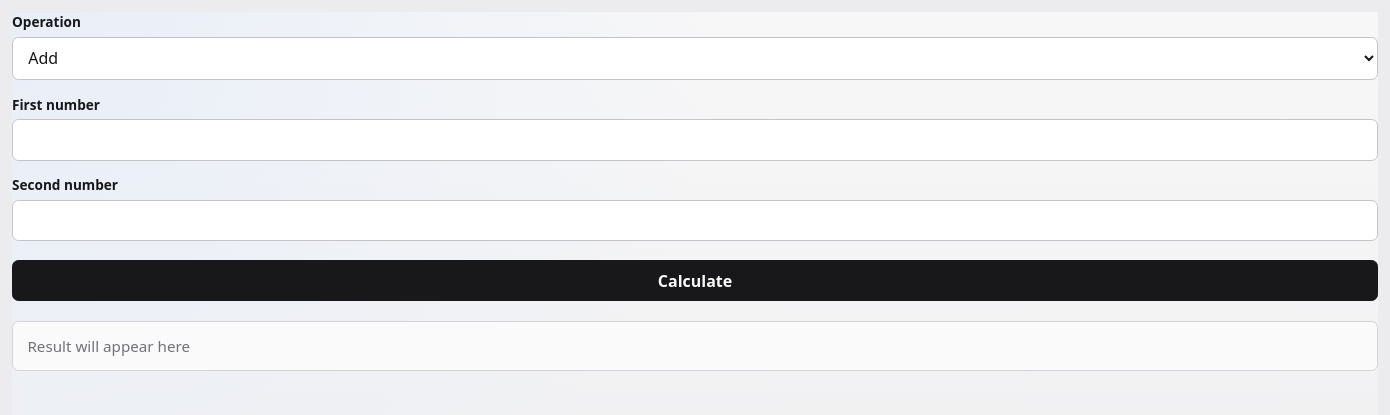
it: Calculator › clears previous result when the operation changes
Type "2" into the field labelled "First number". click: (695, 140)
box: x1=12 y1=119 x2=1378 y2=161
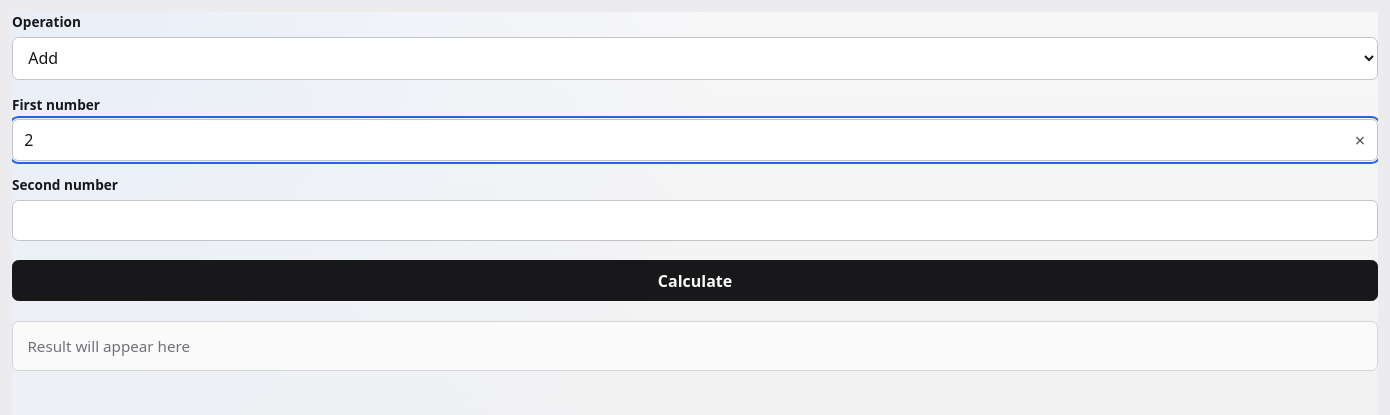
Type "3" into the field labelled "Second number". click: (695, 221)
box: x1=12 y1=200 x2=1378 y2=241
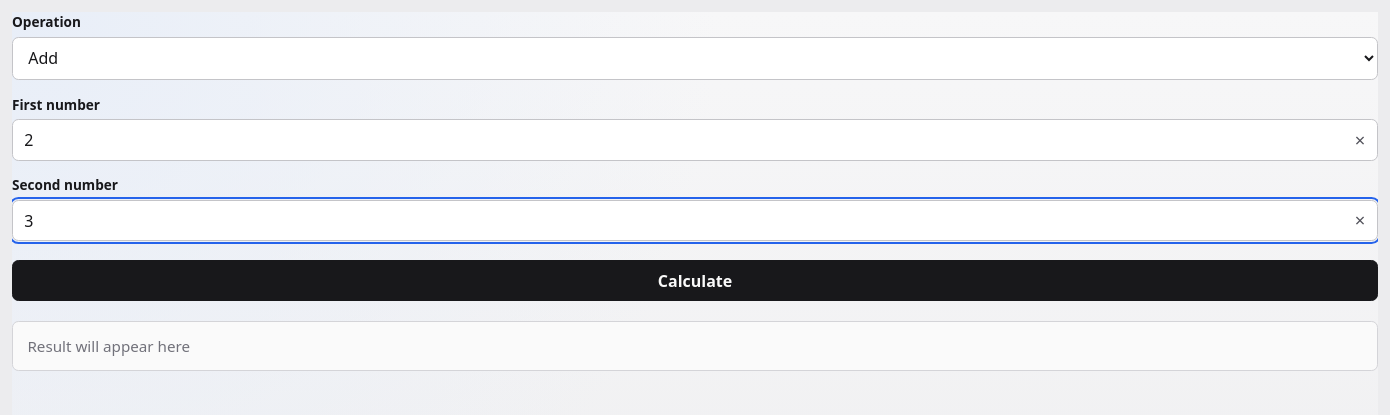
Click the button "Calculate". click: (695, 280)
box: x1=12 y1=260 x2=1378 y2=301
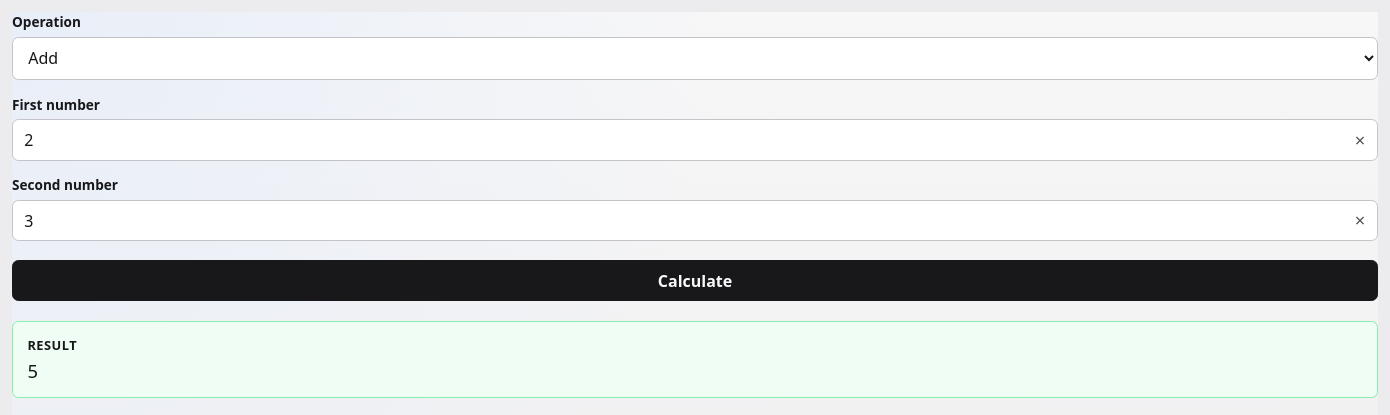
Check: the text "5" is shown, box x1=27 y1=358 x2=38 y2=383
Select "Subtract" in the dropdown labelled "Operation". click: (695, 58)
box: x1=12 y1=37 x2=1378 y2=80
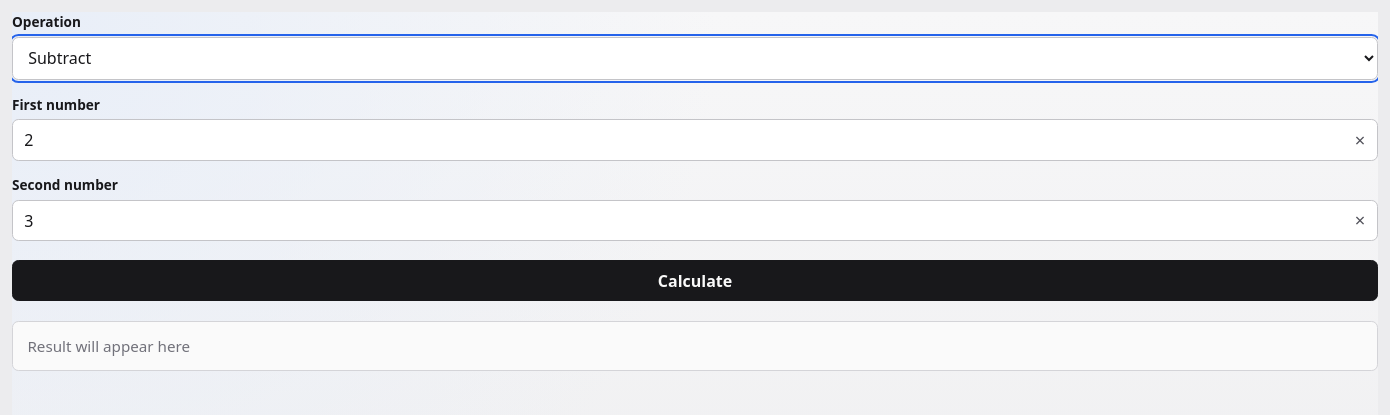
Check: the text "Result will appear here" is shown, box x1=27 y1=336 x2=190 y2=356
Check: the text "5" is gone
